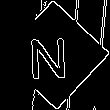N_N: (34, 29, 76, 81)
